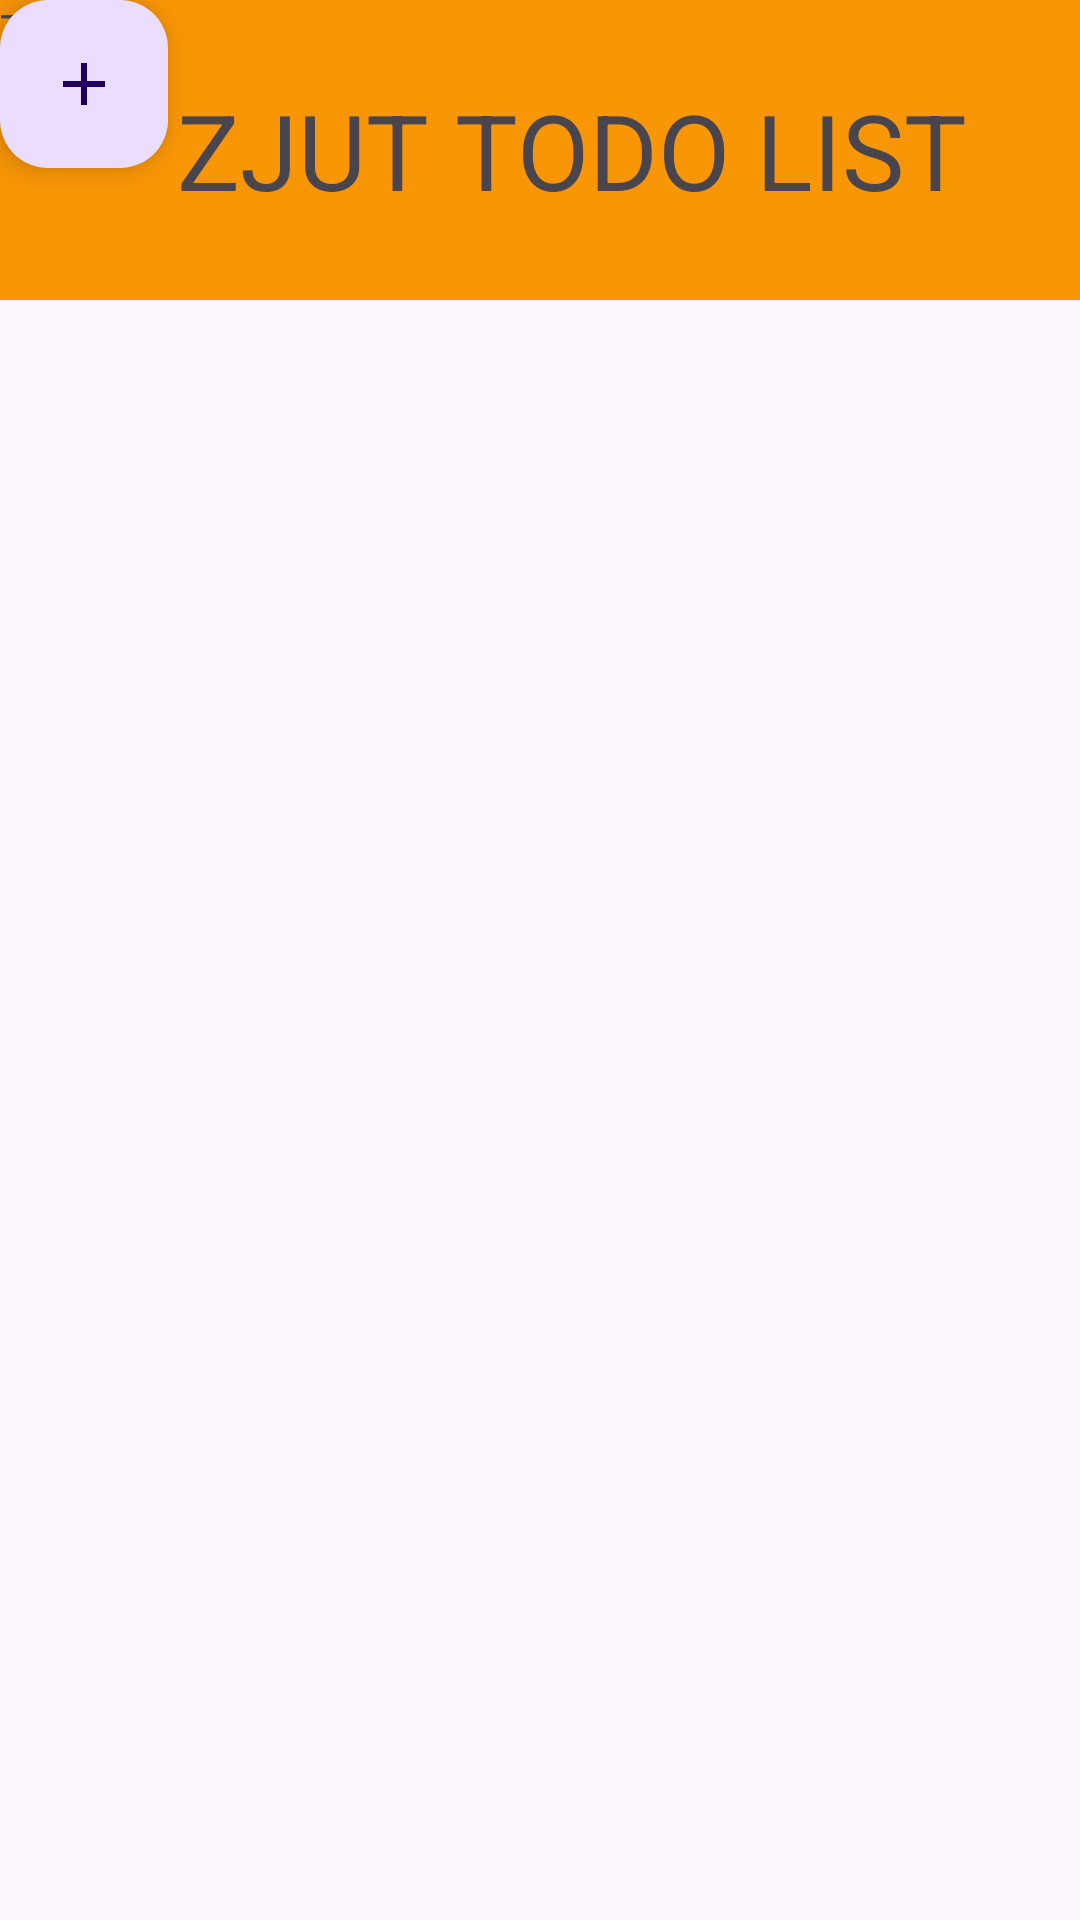

Screen size 1080 × 1920. Icon name, then its box in pixels as (x1, y1, x2, y2):
add: (0, 0, 168, 168)
